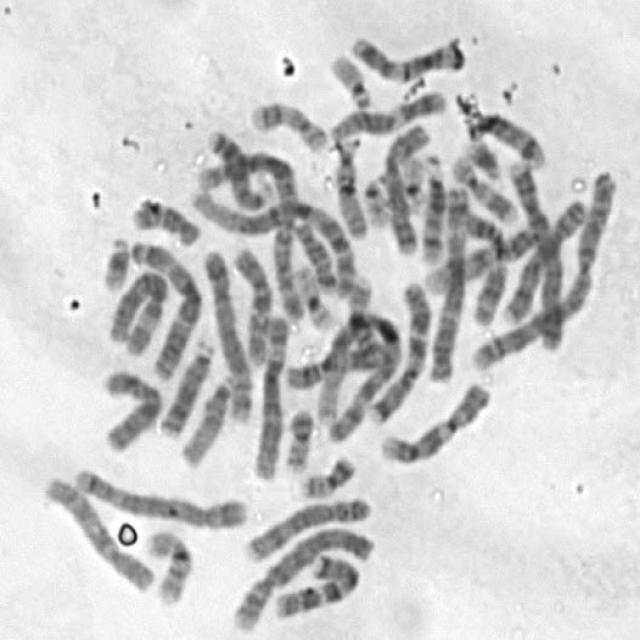A1: (186, 185, 355, 295), (309, 302, 405, 438)
A2: (468, 167, 620, 376), (188, 144, 352, 300)
A3: (127, 235, 206, 379), (425, 179, 473, 384)
B4: (226, 518, 374, 635), (502, 152, 570, 357)
B5: (67, 460, 251, 532), (197, 244, 256, 424)
C10: (38, 468, 157, 594), (229, 241, 275, 367)
C11: (457, 205, 510, 328), (281, 334, 389, 392)
C12: (325, 84, 449, 142), (346, 28, 467, 82)
C6: (246, 308, 290, 482), (100, 263, 170, 357)
C7: (366, 274, 433, 426), (268, 548, 362, 621)
C8: (496, 191, 592, 327), (242, 490, 375, 564)
C9: (376, 375, 494, 465), (418, 218, 540, 296)
D13: (156, 332, 219, 439), (202, 123, 273, 211)
D14: (462, 104, 548, 171), (415, 148, 446, 265)
D15: (176, 370, 236, 470), (328, 128, 370, 241)
E16: (140, 522, 196, 608), (342, 272, 378, 352)
E17: (445, 149, 522, 226), (244, 94, 330, 154)
E18: (128, 192, 203, 249), (288, 214, 338, 294)
F19: (290, 260, 337, 333), (396, 148, 429, 215)
F20: (294, 448, 359, 499), (279, 402, 316, 473)
G21: (458, 132, 504, 182), (97, 229, 133, 292)
G22: (325, 46, 376, 110), (359, 166, 392, 230)
X: (380, 118, 430, 257), (96, 363, 166, 456)
